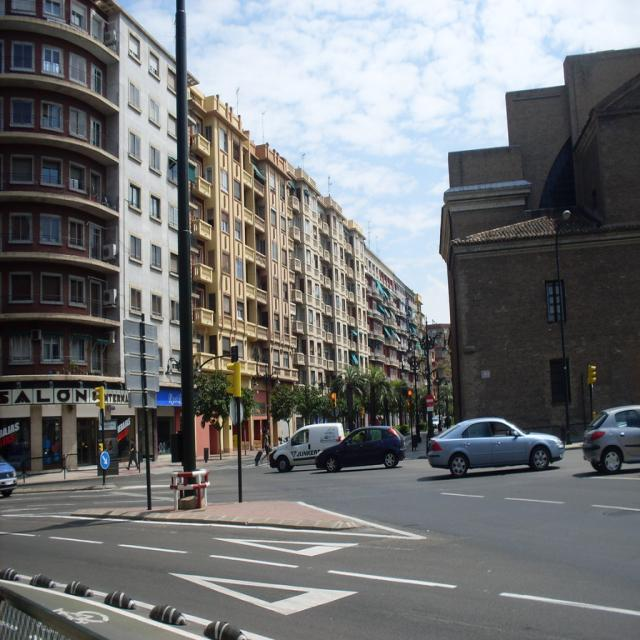car: (427, 417, 565, 476), (314, 426, 404, 465)
